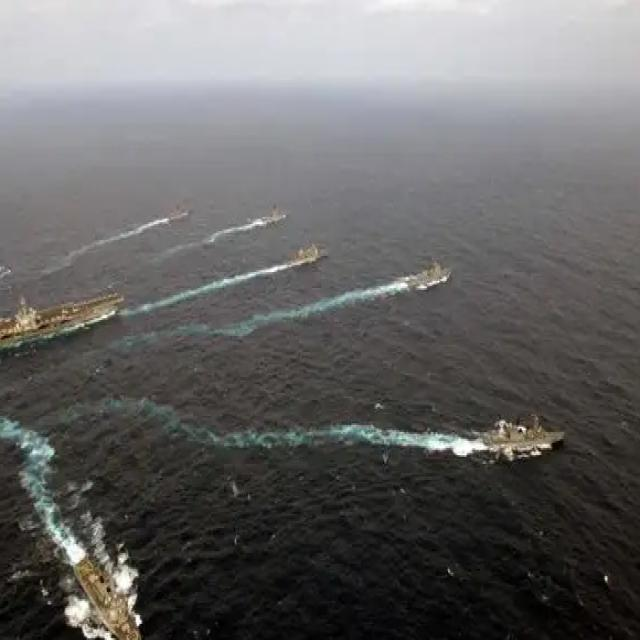navalvessels: (0, 281, 125, 361), (60, 535, 149, 640), (459, 410, 564, 462), (407, 252, 462, 296), (286, 232, 324, 264)
